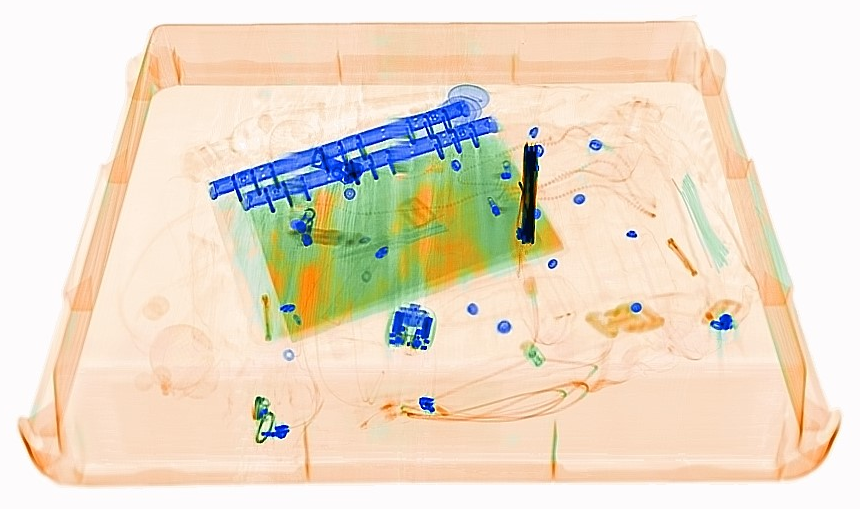FeLighter: (507, 136, 544, 276)
